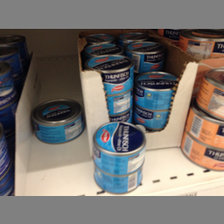fish: (92, 120, 147, 175), (30, 98, 85, 144), (88, 54, 135, 96), (134, 72, 178, 111), (91, 163, 144, 194), (126, 41, 163, 69)
